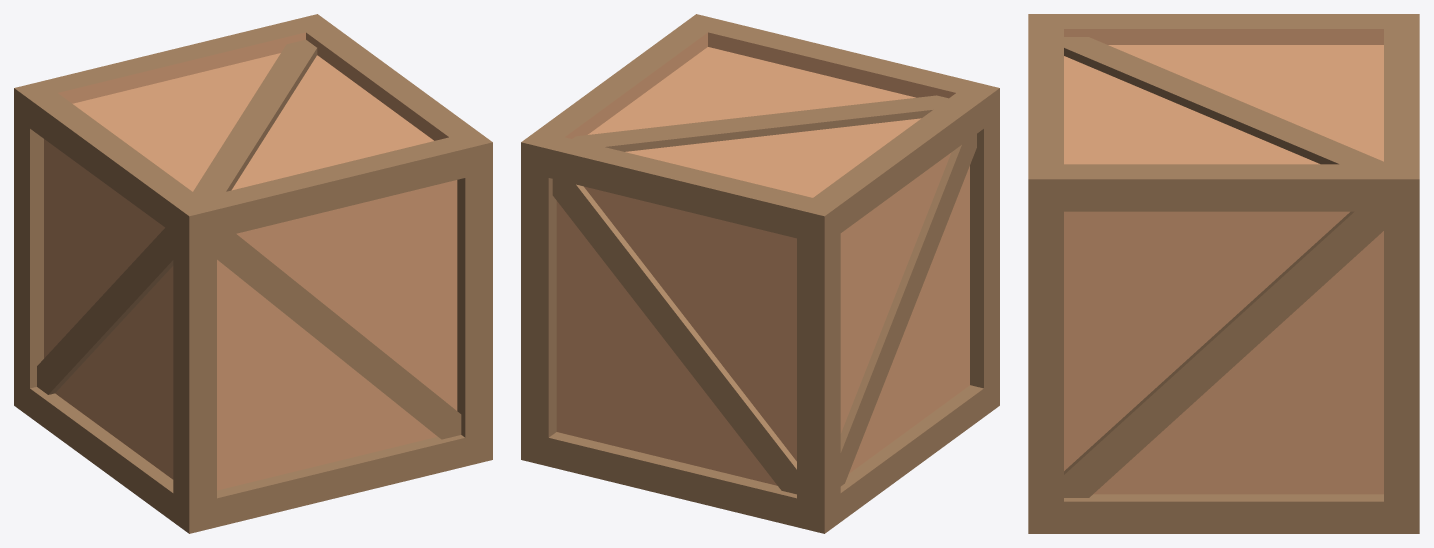
The model's file is Crate.fbx.
3 views of the same model, side by side, from view 1: azimuth 30°, elevation 25°; view 2: azimuth 150°, elevation 25°; view 3: azimuth 270°, elevation 25° (orthographic). The views are drawn at different scales.
Parts seen in each view (by area): view 1: Cube; view 2: Cube; view 3: Cube.
Boxes of the visible parts, left/top/right/bottom form: Cube: left=14, top=14, right=492, bottom=533; Cube: left=521, top=14, right=999, bottom=533; Cube: left=1028, top=14, right=1419, bottom=533.
Bounding box in the file's own units: 220 × 220 × 220.
